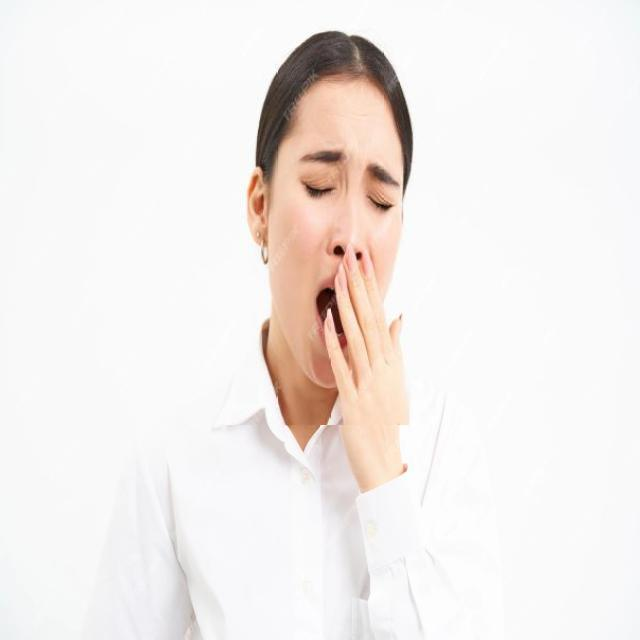Yawn: (225, 28, 437, 426)
